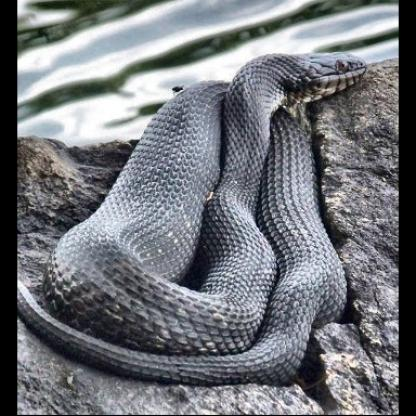Snake: (24, 262, 322, 416), (143, 60, 278, 355), (184, 109, 281, 317), (219, 45, 386, 149), (118, 89, 207, 284), (262, 82, 325, 347), (237, 57, 373, 119)
